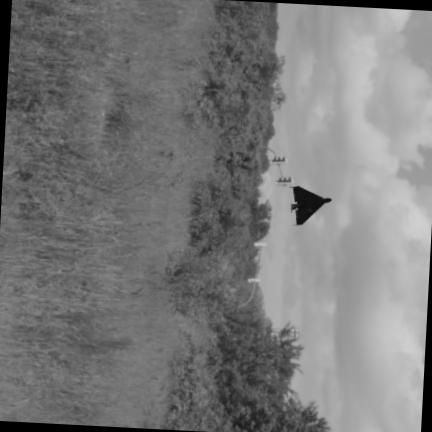Shahed: (291, 187, 330, 225)
